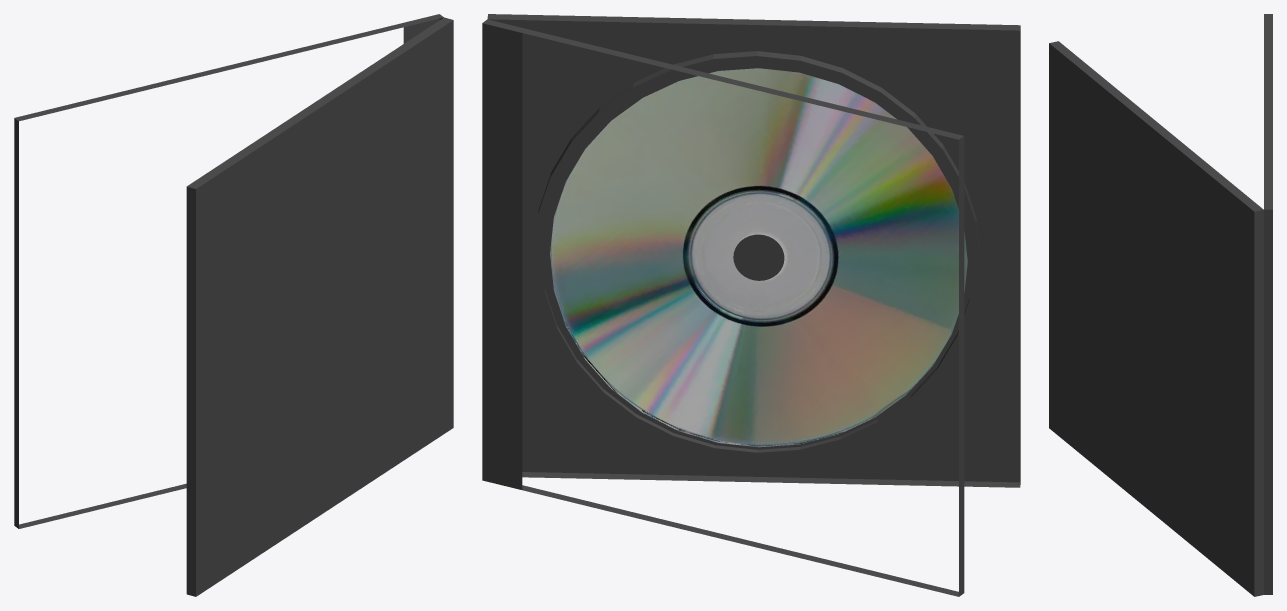
The picture shows the model from 3 angles, left to right: view 1: azimuth 30°, elevation 25°; view 2: azimuth 150°, elevation 25°; view 3: azimuth 270°, elevation 25°; orthographic projection. The views are drawn at different scales.
Visible parts, largest first — view 1: Object_2.001; view 2: Object_2.001; view 3: Object_2.001.
Boxes of the visible parts, x1=… form: Object_2.001: x1=14, y1=14, x2=453, y2=596; Object_2.001: x1=482, y1=14, x2=1020, y2=596; Object_2.001: x1=1049, y1=14, x2=1272, y2=596.
Bounding box in the file's own units: 1.78 × 1.62 × 0.8503.
Materials: 2 (1 with a texture image).
